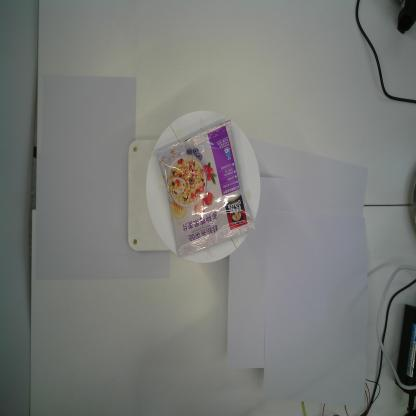Instant Drink: (155, 118, 256, 260)
